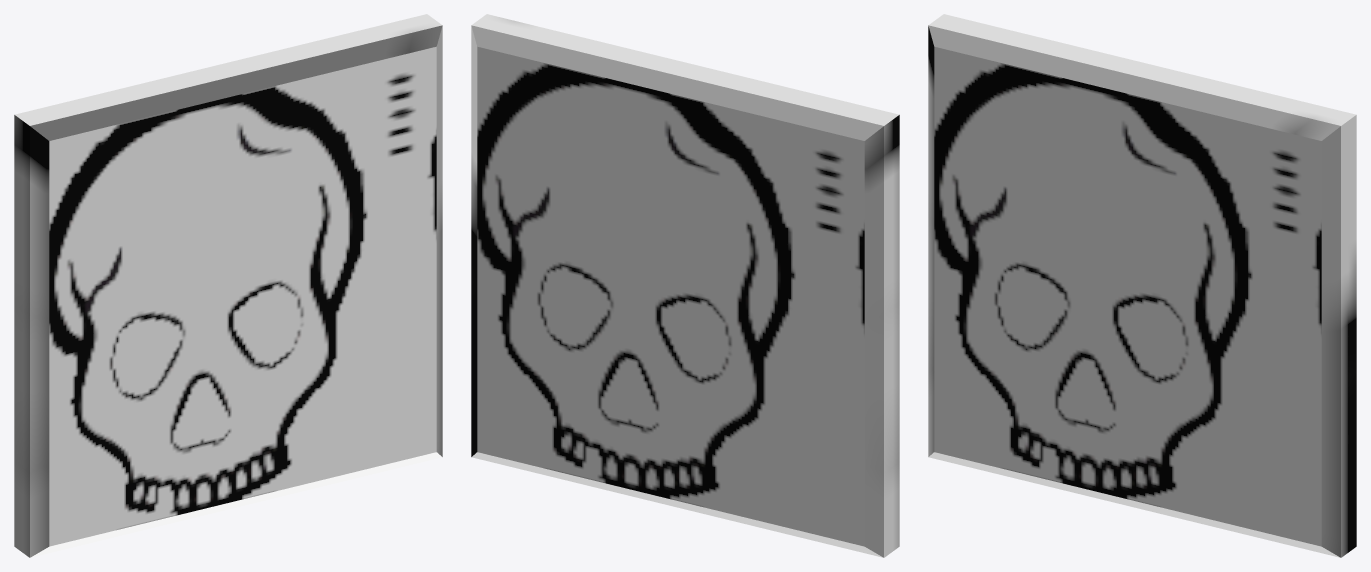
Rendered from SAVEICON.ICO.obj.
The picture shows the model from 3 angles, left to right: view 1: azimuth 30°, elevation 25°; view 2: azimuth 150°, elevation 25°; view 3: azimuth 330°, elevation 25°; orthographic projection.
Size of the model in its own units: 3.89 by 3.89 by 0.4741.
